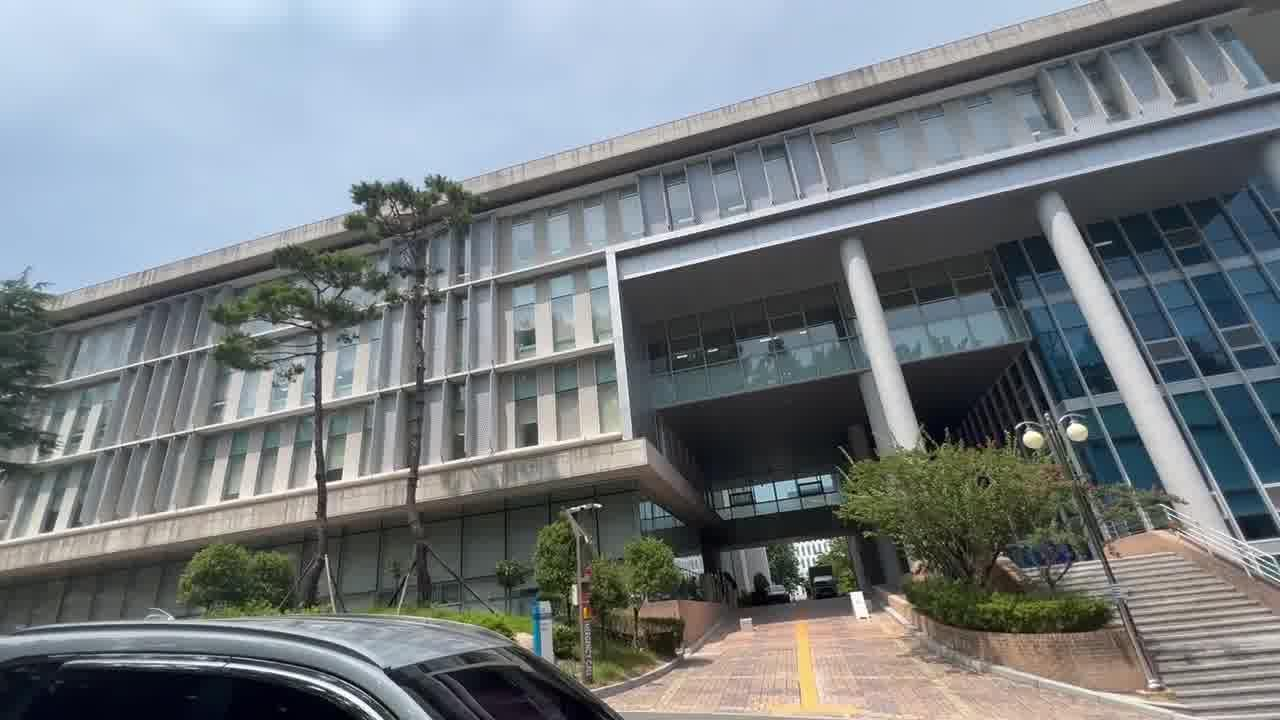building: (123, 0, 1280, 459)
